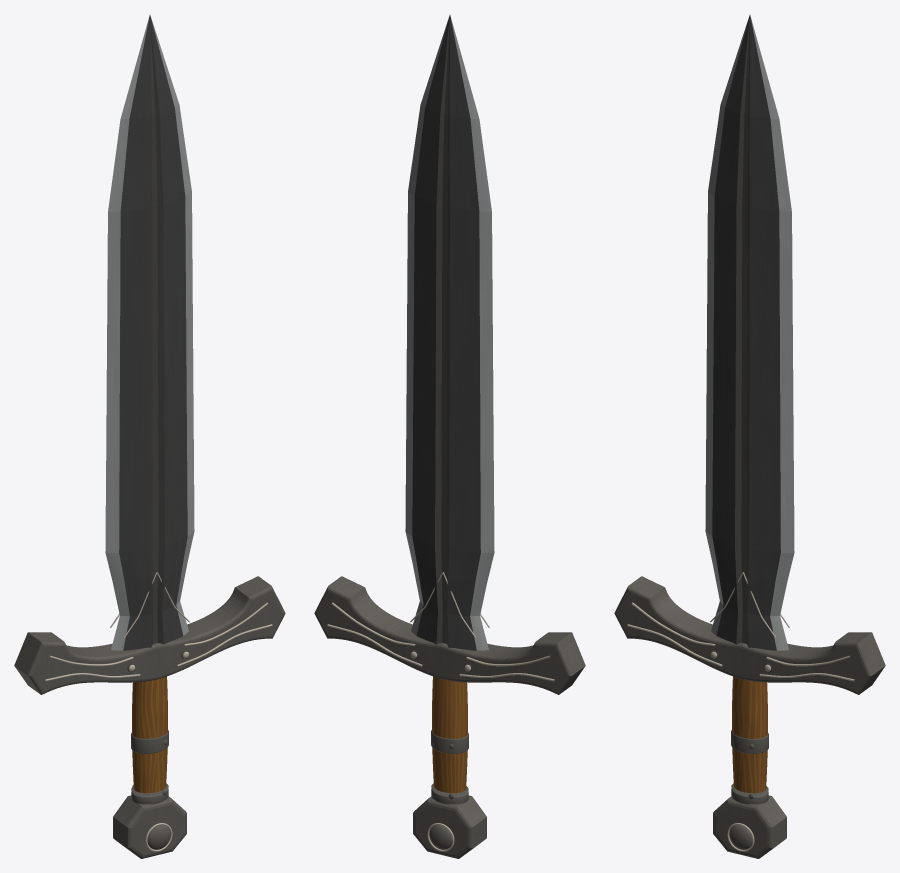
The model's file is cindersteel_sword.glb.
The picture shows the model from 3 angles, left to right: view 1: azimuth 30°, elevation 25°; view 2: azimuth 150°, elevation 25°; view 3: azimuth 330°, elevation 25°; orthographic projection.
Parts seen in each view (by area): view 1: cinder-blade-facets, cinder-guard-and-pommel, cinder-polished-honed-bevels, cinder-recessed-metal, cinder-honey-wood, cinder-raised-metal-ornament; view 2: cinder-blade-facets, cinder-guard-and-pommel, cinder-polished-honed-bevels, cinder-recessed-metal, cinder-honey-wood, cinder-raised-metal-ornament; view 3: cinder-blade-facets, cinder-guard-and-pommel, cinder-polished-honed-bevels, cinder-recessed-metal, cinder-honey-wood, cinder-raised-metal-ornament.
Boxes of the visible parts, x1=… form: cinder-blade-facets: x1=119, y1=15, x2=187, y2=650; cinder-guard-and-pommel: x1=14, y1=576, x2=285, y2=858; cinder-polished-honed-bevels: x1=105, y1=16, x2=194, y2=650; cinder-recessed-metal: x1=127, y1=16, x2=189, y2=672; cinder-honey-wood: x1=132, y1=676, x2=167, y2=793; cinder-raised-metal-ornament: x1=45, y1=572, x2=272, y2=851; cinder-blade-facets: x1=412, y1=15, x2=480, y2=650; cinder-guard-and-pommel: x1=314, y1=576, x2=585, y2=858; cinder-polished-honed-bevels: x1=405, y1=16, x2=494, y2=650; cinder-recessed-metal: x1=410, y1=16, x2=472, y2=672; cinder-honey-wood: x1=432, y1=676, x2=467, y2=793; cinder-raised-metal-ornament: x1=327, y1=572, x2=554, y2=851; cinder-blade-facets: x1=712, y1=15, x2=780, y2=650; cinder-guard-and-pommel: x1=614, y1=576, x2=885, y2=858; cinder-polished-honed-bevels: x1=705, y1=16, x2=794, y2=650; cinder-recessed-metal: x1=710, y1=16, x2=772, y2=672; cinder-honey-wood: x1=732, y1=676, x2=767, y2=793; cinder-raised-metal-ornament: x1=627, y1=572, x2=854, y2=851.
Size of the model in its own units: 0.4114 by 1.27 by 0.0639.
Materials: 6 (6 with a texture image).
